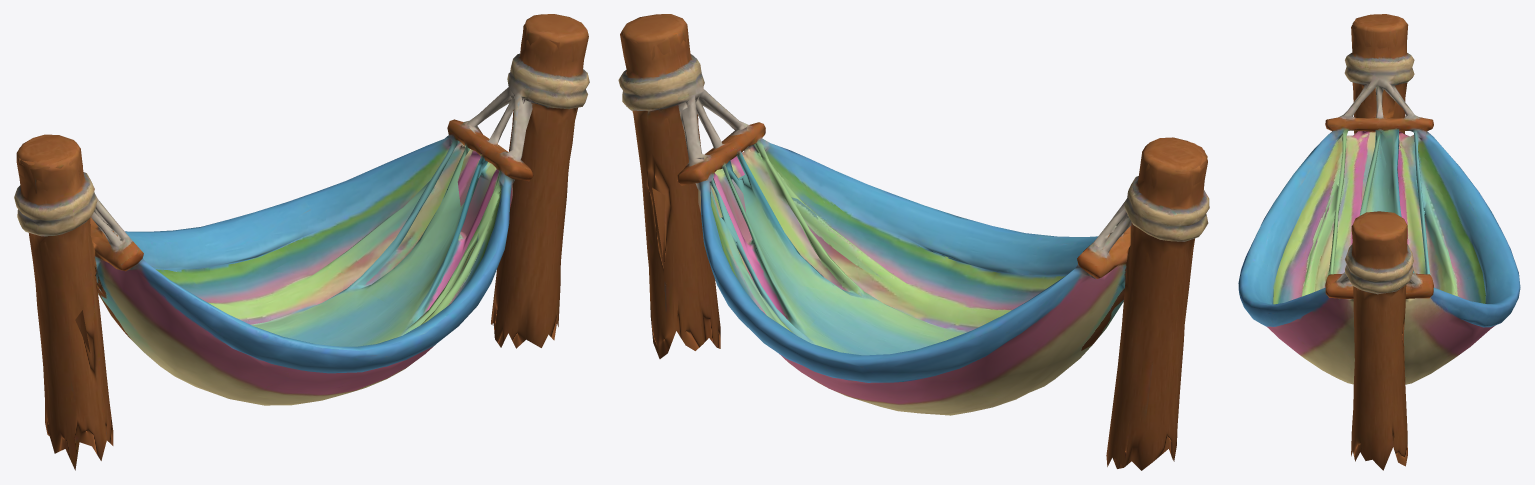
The model's file is hammock.glb.
The picture shows the model from 3 angles, left to right: view 1: azimuth 30°, elevation 25°; view 2: azimuth 150°, elevation 25°; view 3: azimuth 270°, elevation 25°; orthographic projection. The views are drawn at different scales.
Size of the model in its own units: 0.9972 by 0.5398 by 0.5293.
1 material, 1 textured.
